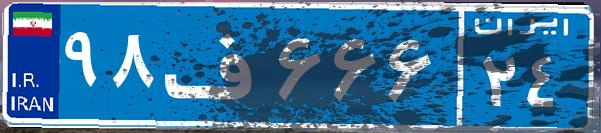2: (475, 38, 525, 113)
4: (525, 38, 570, 115)
6: (385, 28, 445, 110), (273, 28, 330, 110), (330, 28, 385, 110)
8: (110, 28, 158, 105)
9: (57, 26, 110, 107)
ف: (158, 15, 273, 115)
